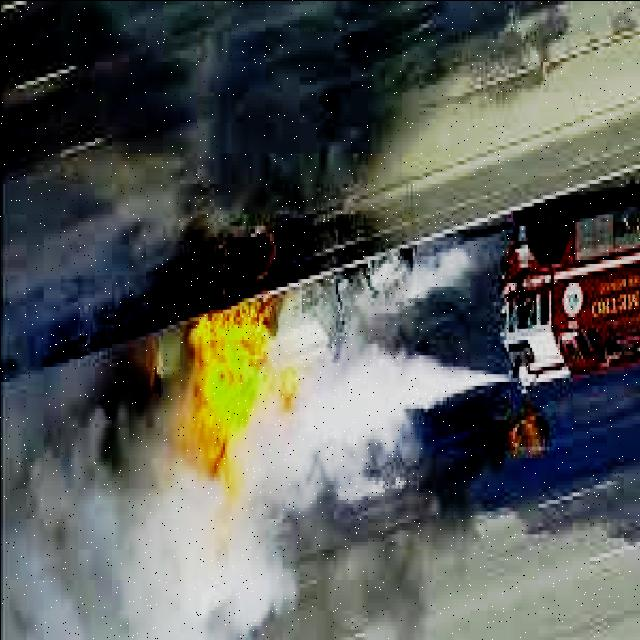api: (183, 310, 311, 493)
